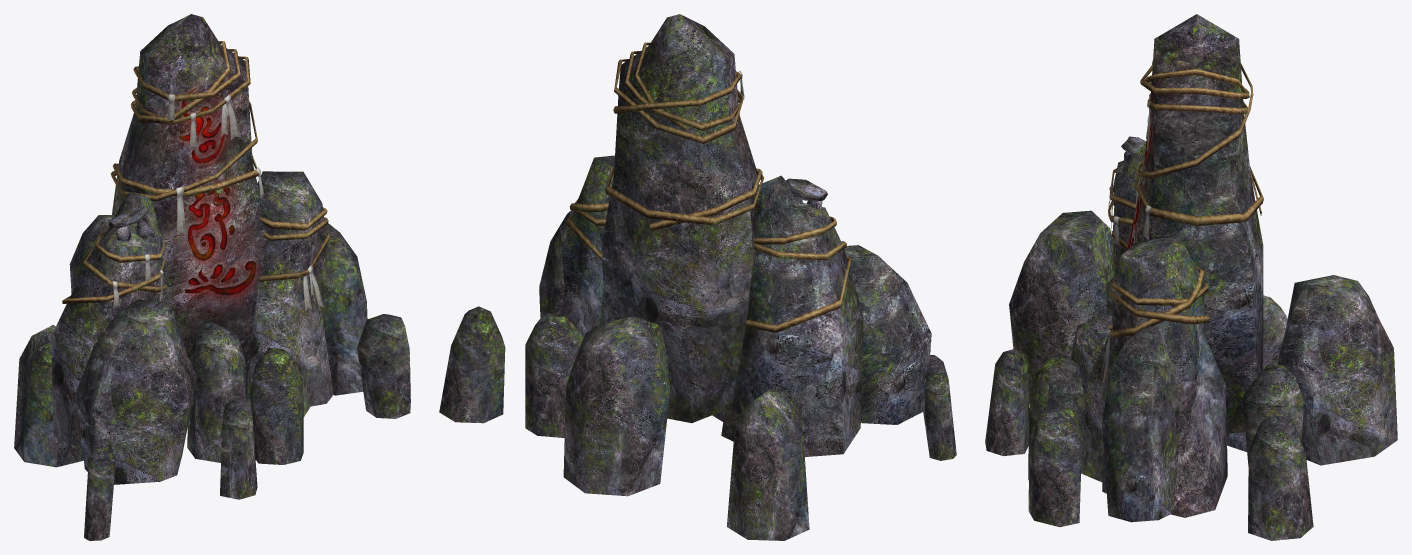
Rendered from cairn_01_00.fbx.
3 views of the same model, side by side, from view 1: azimuth 30°, elevation 25°; view 2: azimuth 150°, elevation 25°; view 3: azimuth 270°, elevation 25° (orthographic). The views are drawn at different scales.
Visible parts, largest first — view 1: cairn_01_00; view 2: cairn_01_00; view 3: cairn_01_00.
Part boxes in pixels (x1,y1,x2,y2): cairn_01_00: (14,14,410,540); cairn_01_00: (439,14,956,540); cairn_01_00: (985,14,1397,540).
Size of the model in its own units: 31.3 by 35.22 by 27.41.
